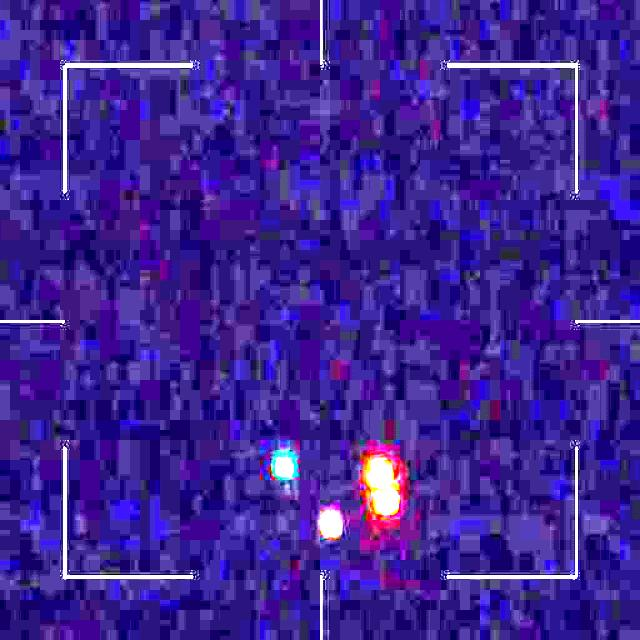bird: (275, 449, 402, 540)
